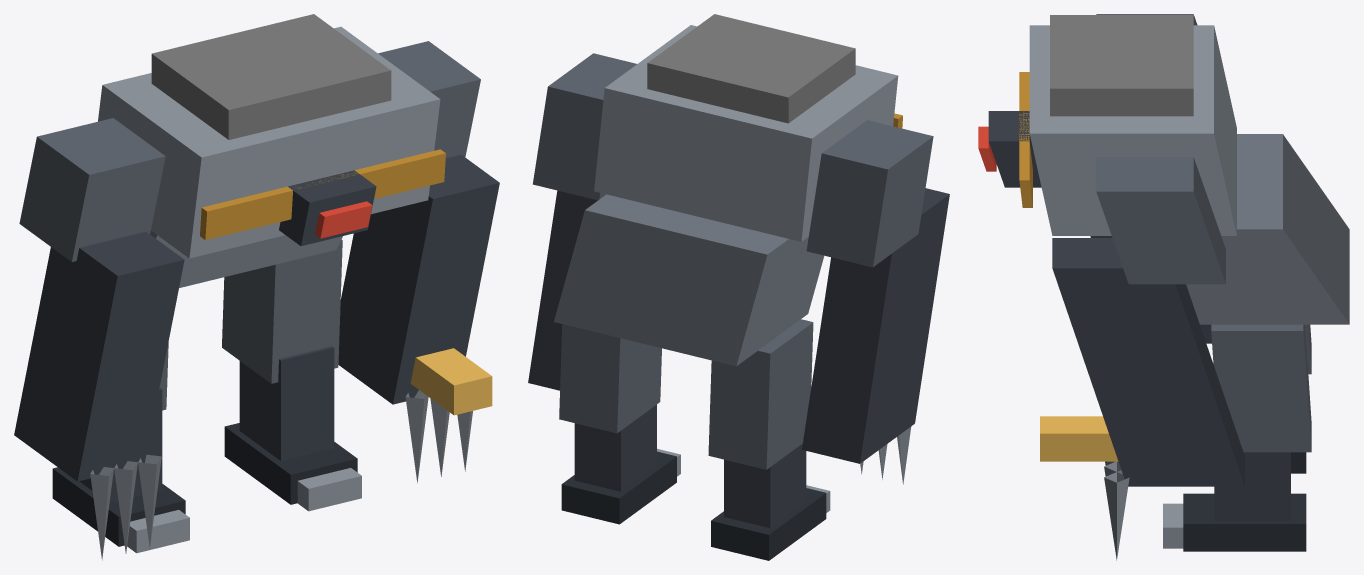
The model's file is wrecker-attack-1.obj.
The picture shows the model from 3 angles, left to right: view 1: azimuth 30°, elevation 25°; view 2: azimuth 150°, elevation 25°; view 3: azimuth 270°, elevation 25°; orthographic projection. The views are drawn at different scales.
Parts seen in each view (by area): view 1: wrecker-attack-1; view 2: wrecker-attack-1; view 3: wrecker-attack-1.
Boxes of the visible parts, x1=… form: wrecker-attack-1: x1=14, y1=14, x2=499, y2=560; wrecker-attack-1: x1=528, y1=14, x2=949, y2=560; wrecker-attack-1: x1=978, y1=14, x2=1349, y2=560.
Size of the model in its own units: 1.67 by 1.92 by 1.45.
